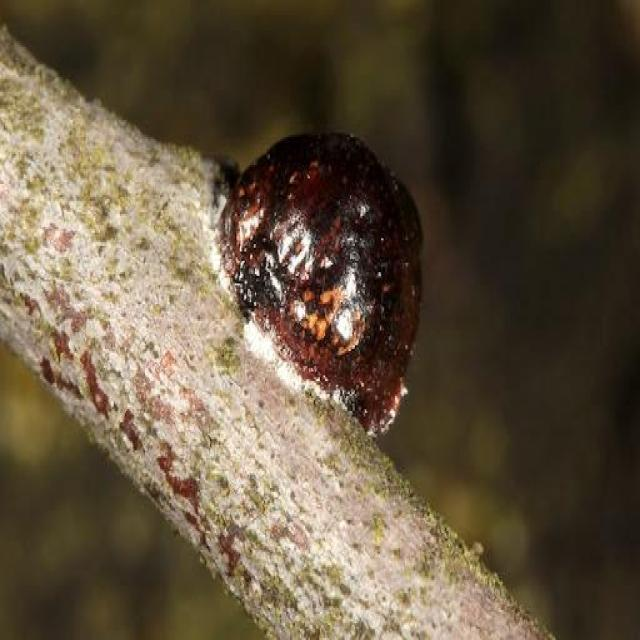BlackScale: (220, 132, 420, 416)
